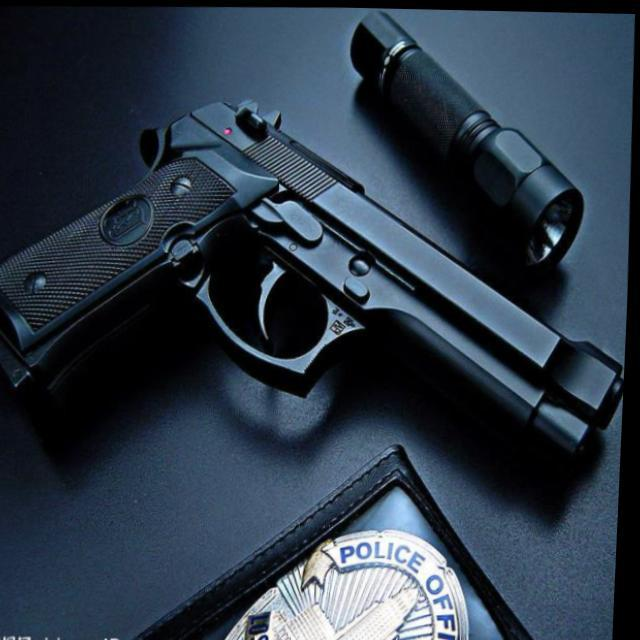weapon: (0, 84, 637, 479), (340, 6, 594, 275)
